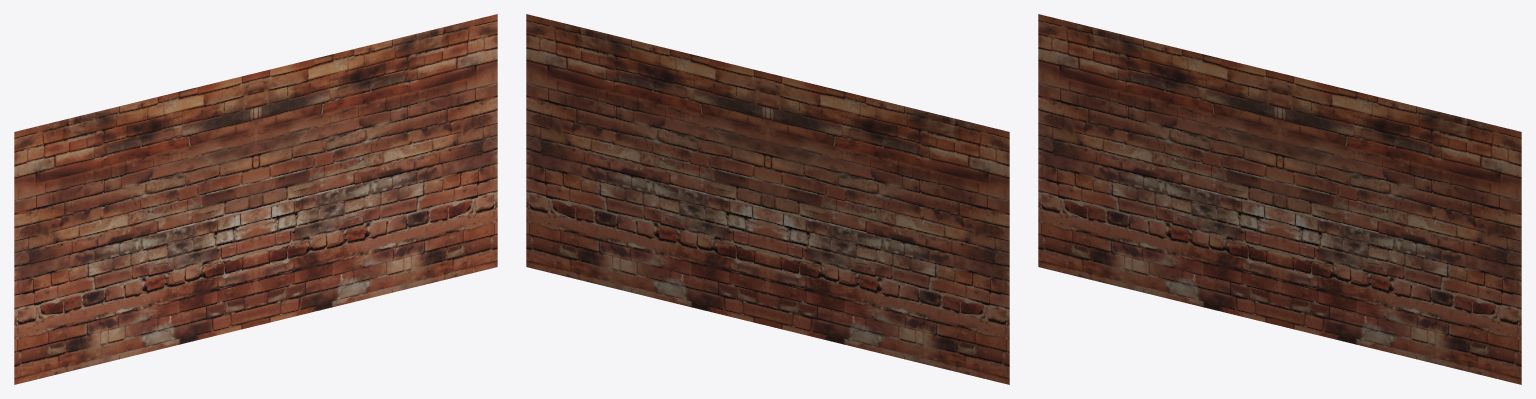
File: trick_wall.glb
The picture shows the model from 3 angles, left to right: view 1: azimuth 30°, elevation 25°; view 2: azimuth 150°, elevation 25°; view 3: azimuth 330°, elevation 25°; orthographic projection.
Parts seen in each view (by area): view 1: TrickWall; view 2: TrickWall; view 3: TrickWall.
Boxes of the visible parts, box(x1,y1,x2,y2) form: TrickWall: box(14, 14, 497, 384); TrickWall: box(526, 14, 1009, 384); TrickWall: box(1038, 14, 1521, 384).
Bounding box in the file's own units: 8 × 4 × 8.88e-16.
Materials: 1 (1 with a texture image).
